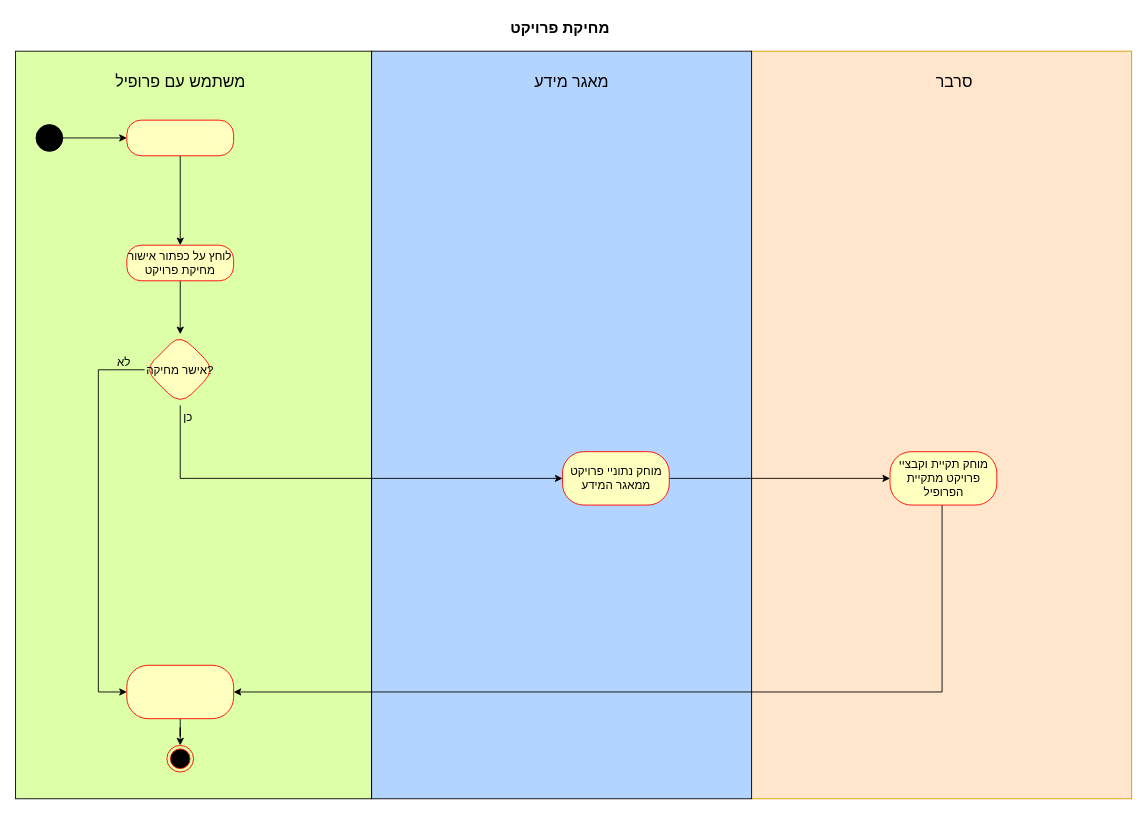
Some shapes in this 1147 by 815 pixel diagram are drawn without their labels. The shapes that lost their labels are listed below. From the top down, each one's box as (x1, y1, x2, y2) in pixels, then its label:
(126, 119, 234, 156): לוחץ על כפתור מחק פרויקט
(126, 664, 234, 719): עובר לדף פרופיל
